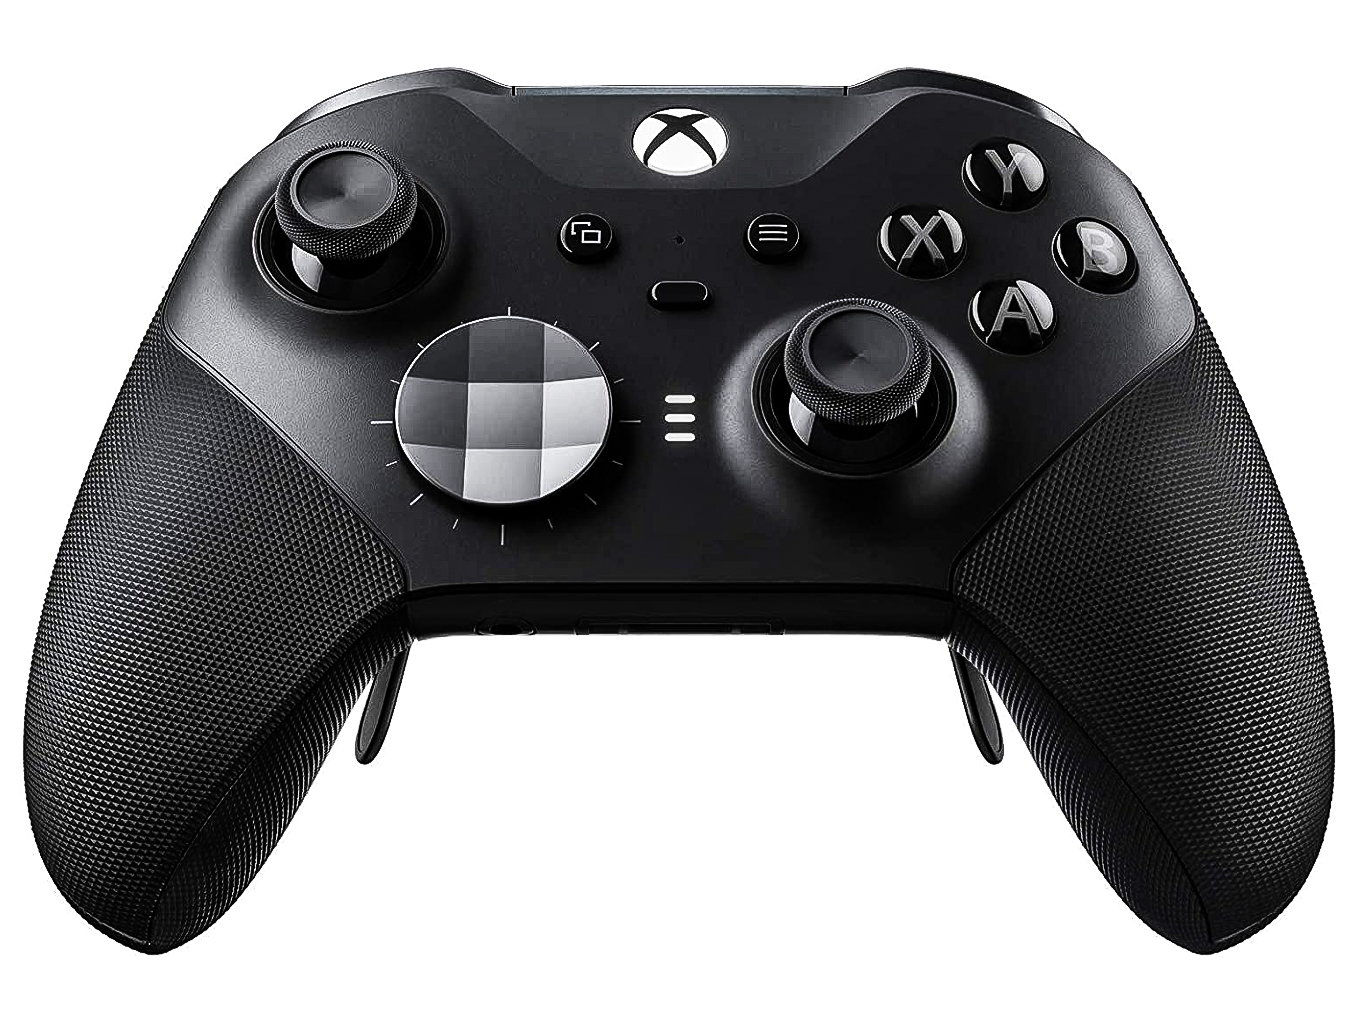controller: (24, 65, 1334, 954)
